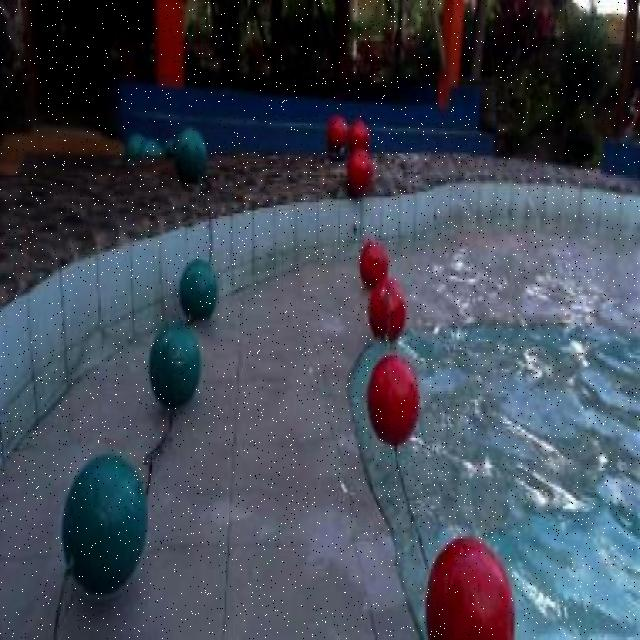buoy: (60, 455, 146, 595), (425, 532, 517, 638), (366, 354, 419, 445), (147, 321, 200, 407), (367, 274, 408, 339), (179, 260, 218, 320), (173, 122, 205, 184), (358, 240, 388, 290), (346, 147, 371, 197)
